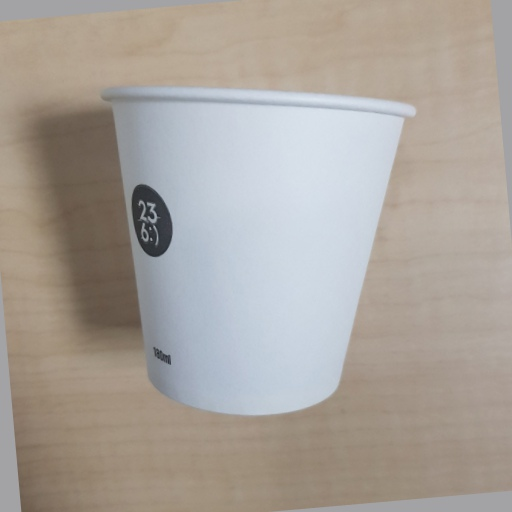Paper_1: (92, 78, 419, 415)
